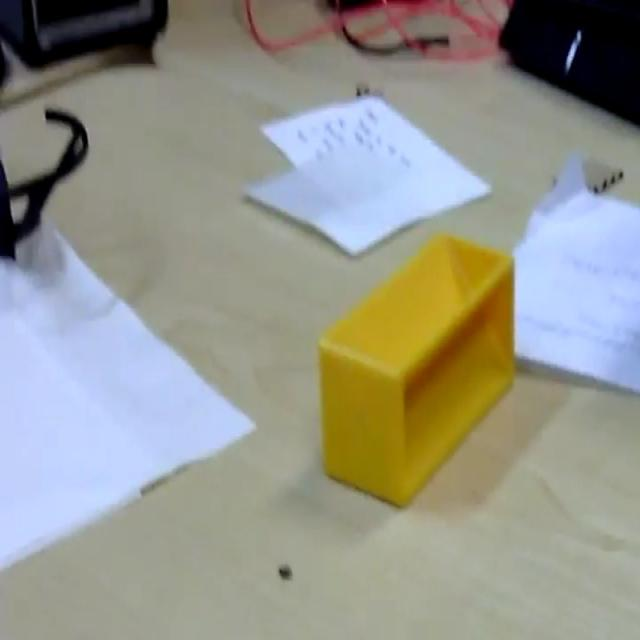yellow_block: (317, 230, 516, 507)
